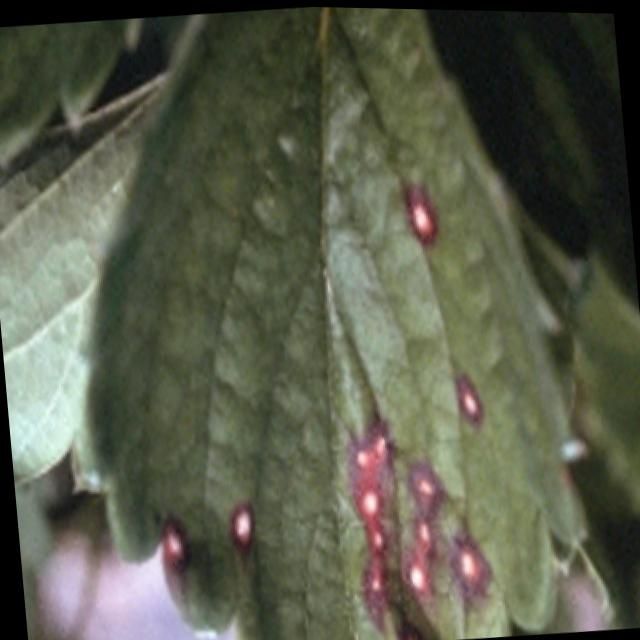Leaf Spot: (70, 5, 586, 640), (0, 17, 141, 171)
